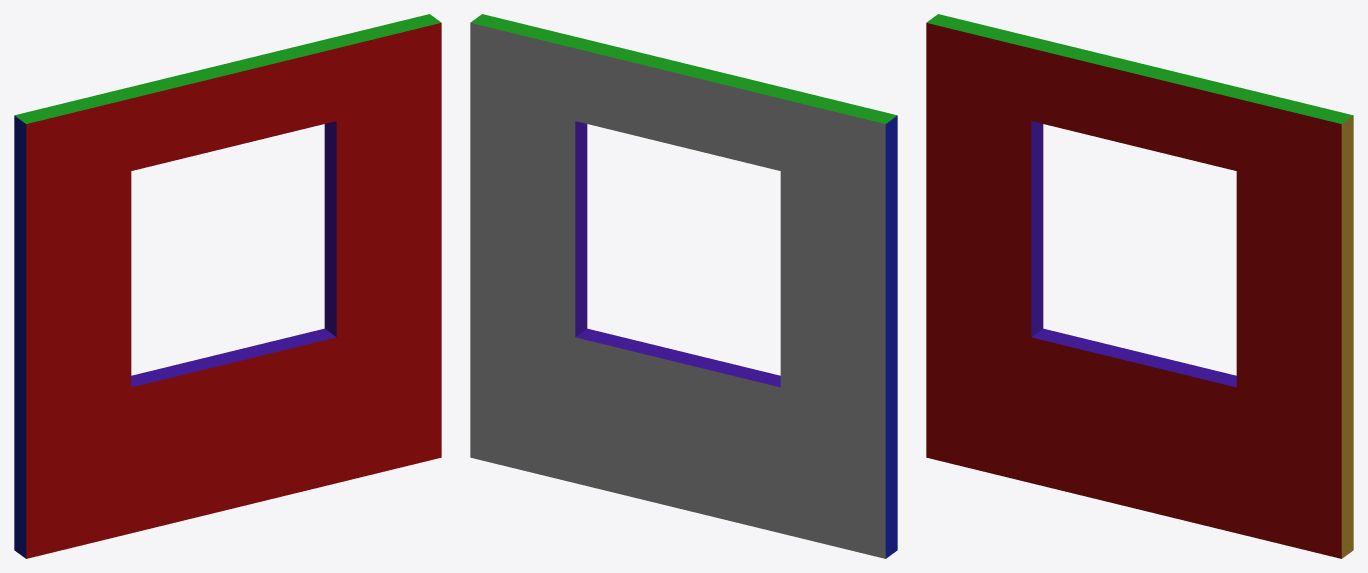
File: Wall_Window_02a.fbx
The picture shows the model from 3 angles, left to right: view 1: azimuth 30°, elevation 25°; view 2: azimuth 150°, elevation 25°; view 3: azimuth 330°, elevation 25°; orthographic projection.
Visible parts, largest first — view 1: Wall_Window_02a; view 2: Wall_Window_02a; view 3: Wall_Window_02a.
Boxes of the visible parts, <box> form: Wall_Window_02a: <box>14,14,441,558</box>; Wall_Window_02a: <box>470,14,897,558</box>; Wall_Window_02a: <box>926,14,1353,558</box>.
Size of the model in its own units: 3 by 0.15 by 3.
